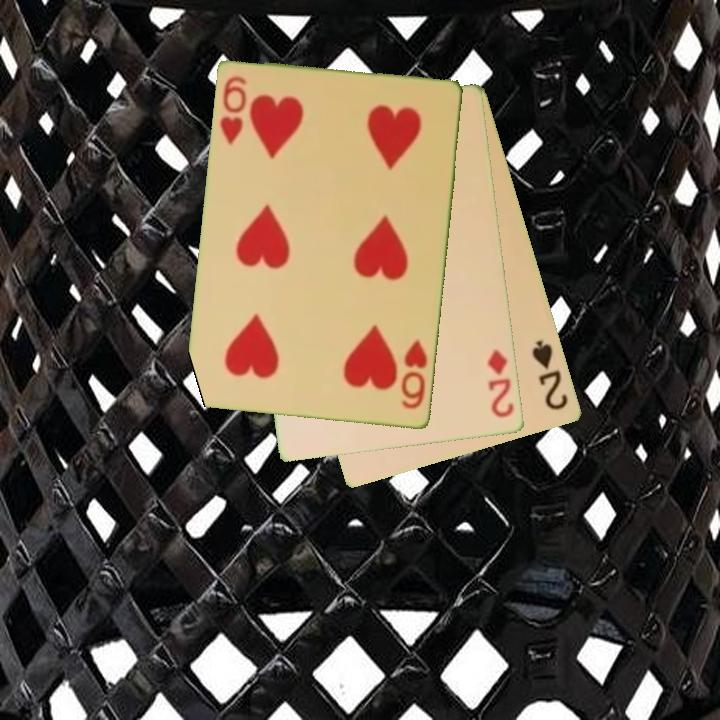2d: (485, 346, 517, 421)
2s: (529, 336, 572, 414)
6h: (398, 336, 431, 413), (217, 73, 250, 148)
